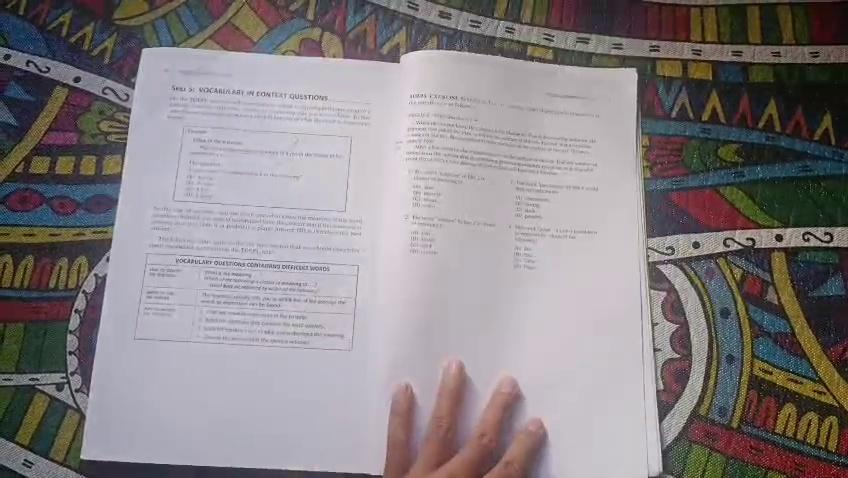Kertas: (145, 59, 385, 468), (387, 70, 636, 364)
